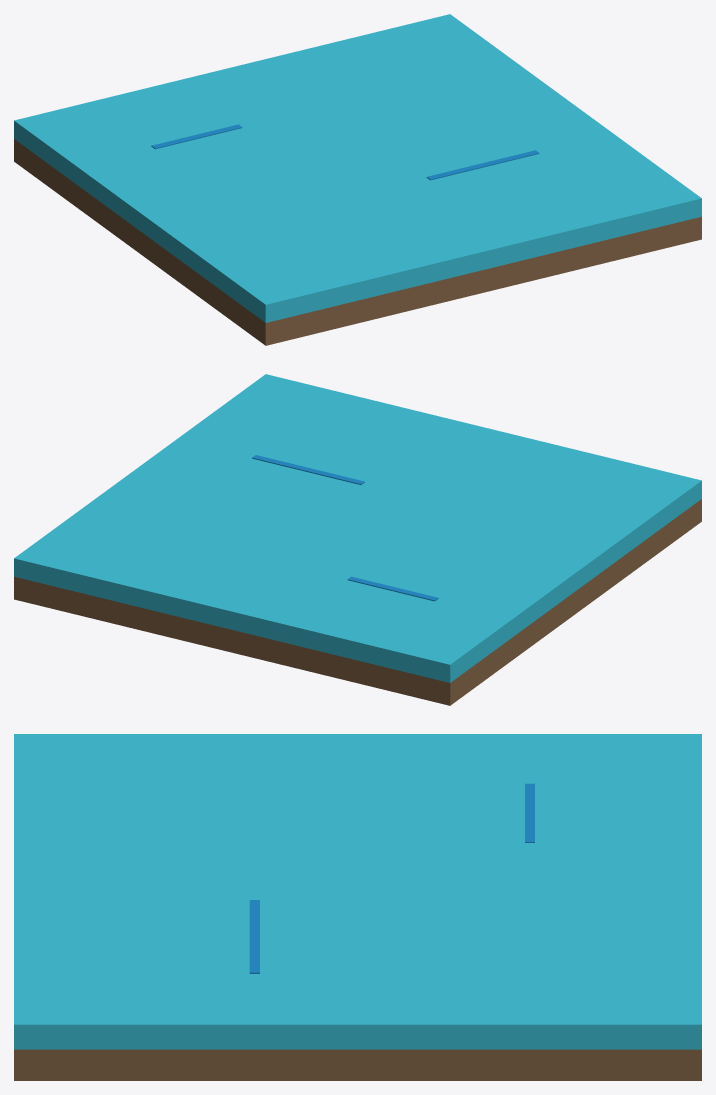
The model's file is agua.glb.
3 renders of one model, top to bottom at view 1: azimuth 30°, elevation 25°; view 2: azimuth 150°, elevation 25°; view 3: azimuth 270°, elevation 25°, orthographic. The views are drawn at different scales.
Parts seen in each view (by area): view 1: corpo; view 2: corpo; view 3: corpo.
Boxes of the visible parts, box(x1,y1,x2,y2) form: corpo: box(14, 14, 701, 345); corpo: box(14, 374, 701, 705); corpo: box(14, 734, 701, 1080).
Bounding box in the file's own units: 2 × 0.184 × 2.
